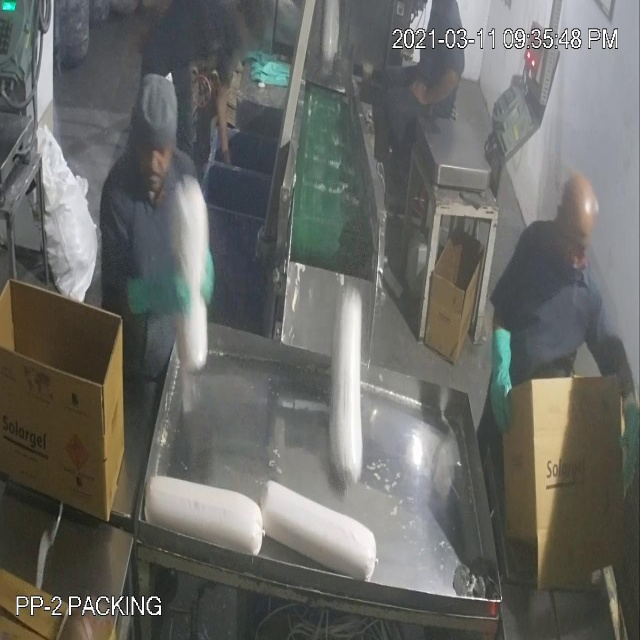Guantes: (478, 319, 523, 447), (616, 367, 640, 487)
Sin_guantes: (406, 62, 468, 118), (216, 75, 242, 171)
